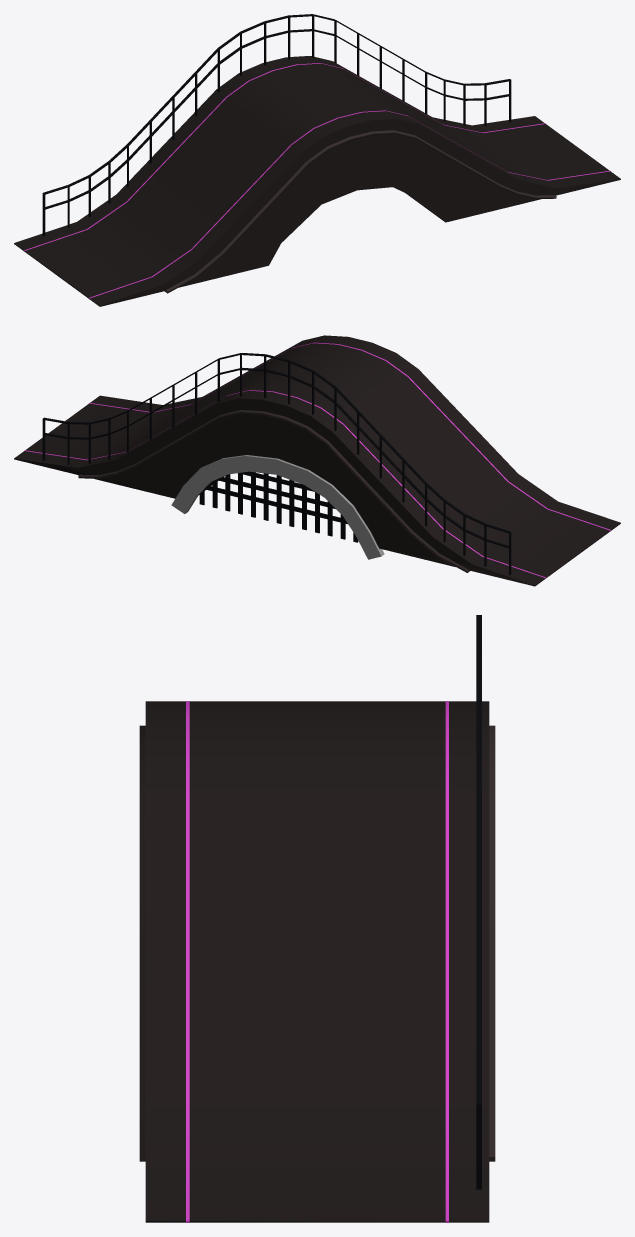
The model's file is W_O_Playground_Hill_L1.fbx.
3 views of the same model, one above another, from view 1: azimuth 30°, elevation 25°; view 2: azimuth 150°, elevation 25°; view 3: azimuth 270°, elevation 25° (orthographic). The views are drawn at different scales.
Visible parts, largest first — view 1: W_O_Playground_Hill_L1; view 2: W_O_Playground_Hill_L1; view 3: W_O_Playground_Hill_L1.
Boxes of the visible parts, x1=… form: W_O_Playground_Hill_L1: x1=14, y1=14, x2=620, y2=306; W_O_Playground_Hill_L1: x1=14, y1=335, x2=620, y2=586; W_O_Playground_Hill_L1: x1=139, y1=615, x2=495, y2=1222.
Size of the model in its own units: 7.01 by 2.26 by 2.07.
